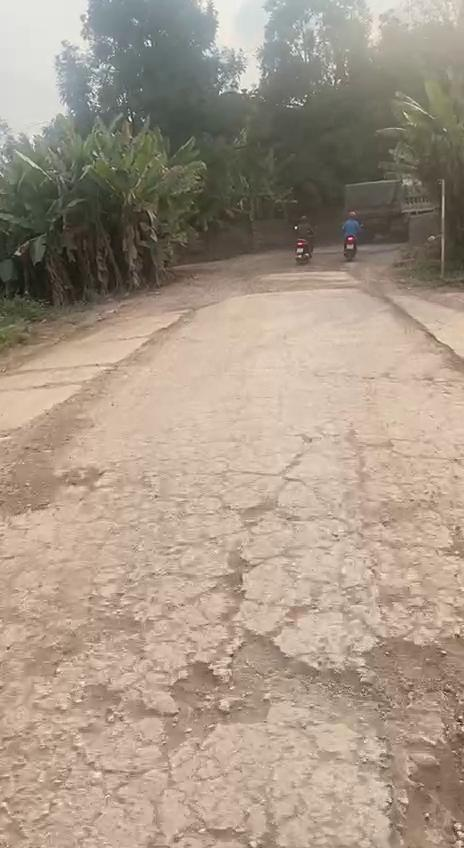pothole: (146, 629, 464, 848)
